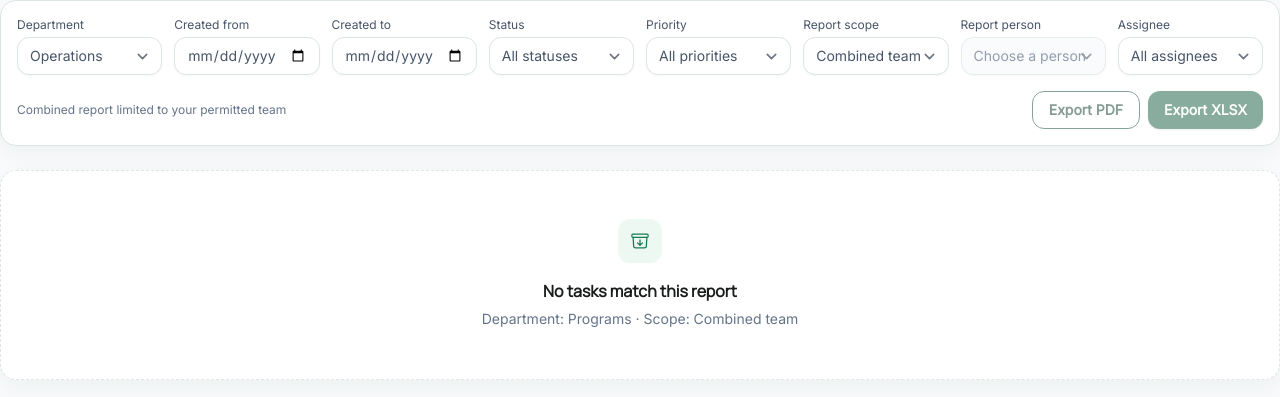
ReportsPanel › derives permitted scope again when department reporting context changes
Expected: the dropdown labelled "Report scope" shows "Combined team", 803,37 -> 949,75
Select "Operations" in the dropdown labelled "Department". click: (90, 56)
box: 17,37 -> 162,75
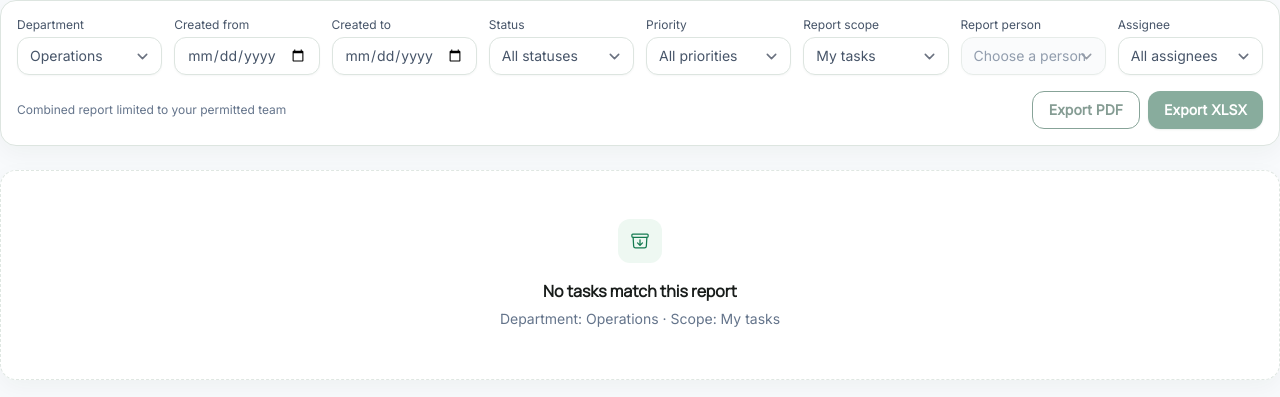
Expected: the dropdown labelled "Report scope" shows "My tasks", 803,37 -> 949,75
